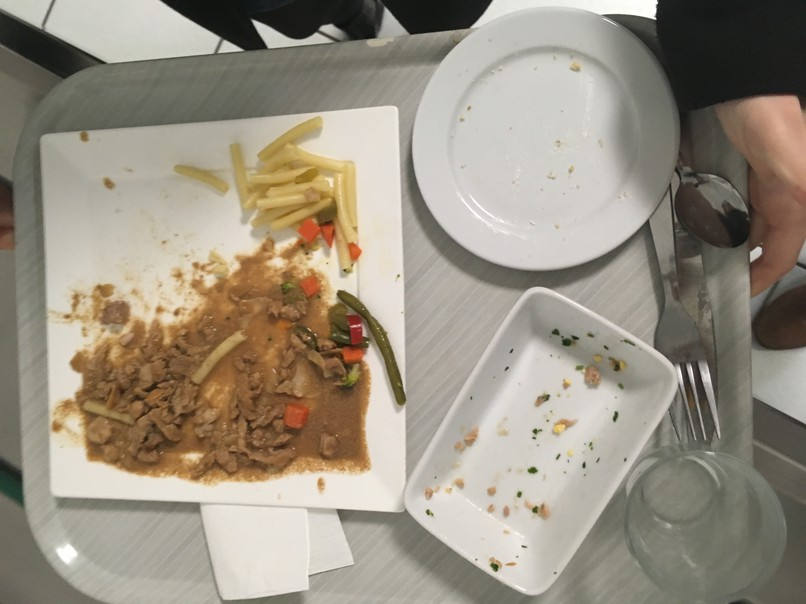cup: (621, 454, 796, 604)
cutlery: (642, 206, 735, 446), (675, 150, 758, 252)
orga: (81, 296, 325, 477), (227, 122, 369, 271), (327, 289, 412, 405)
trash: (198, 501, 359, 603)
